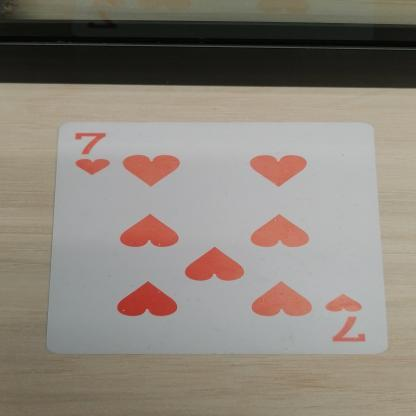7H: (64, 126, 123, 179), (326, 284, 376, 344)
